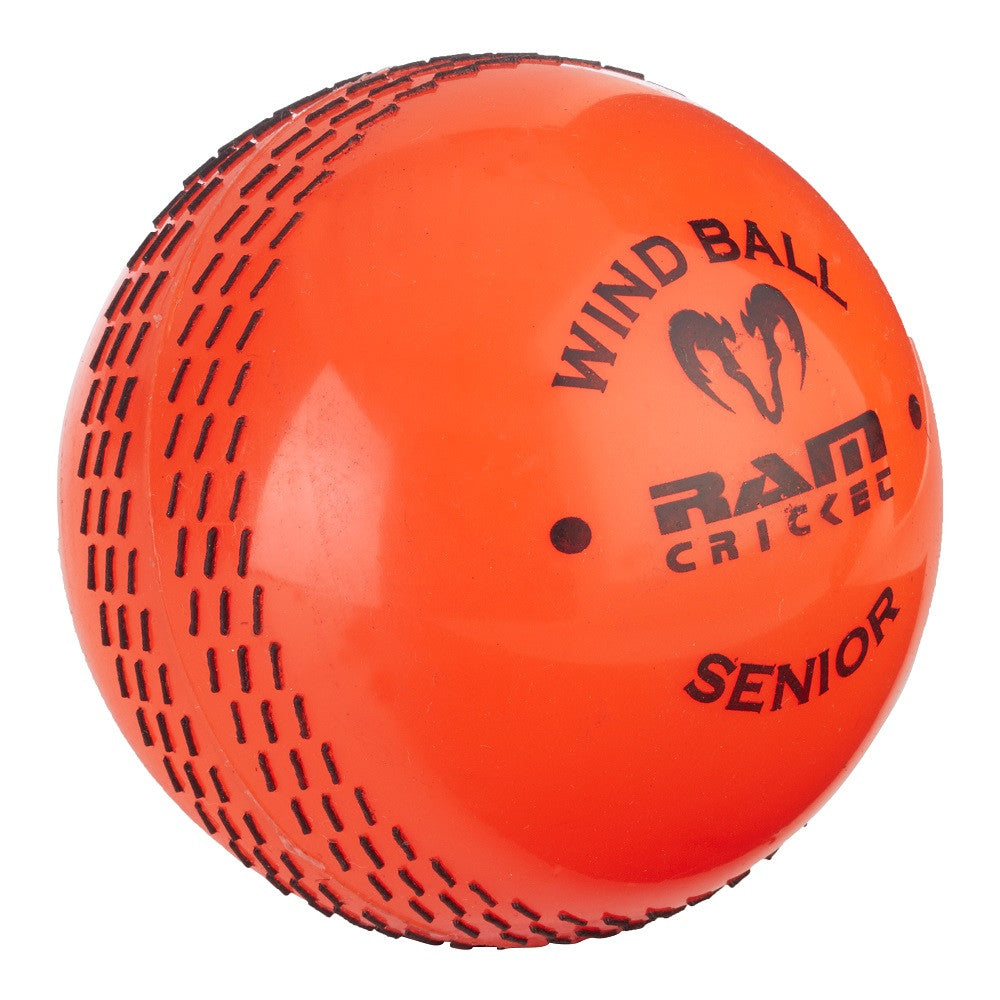ball: (58, 51, 941, 951)
